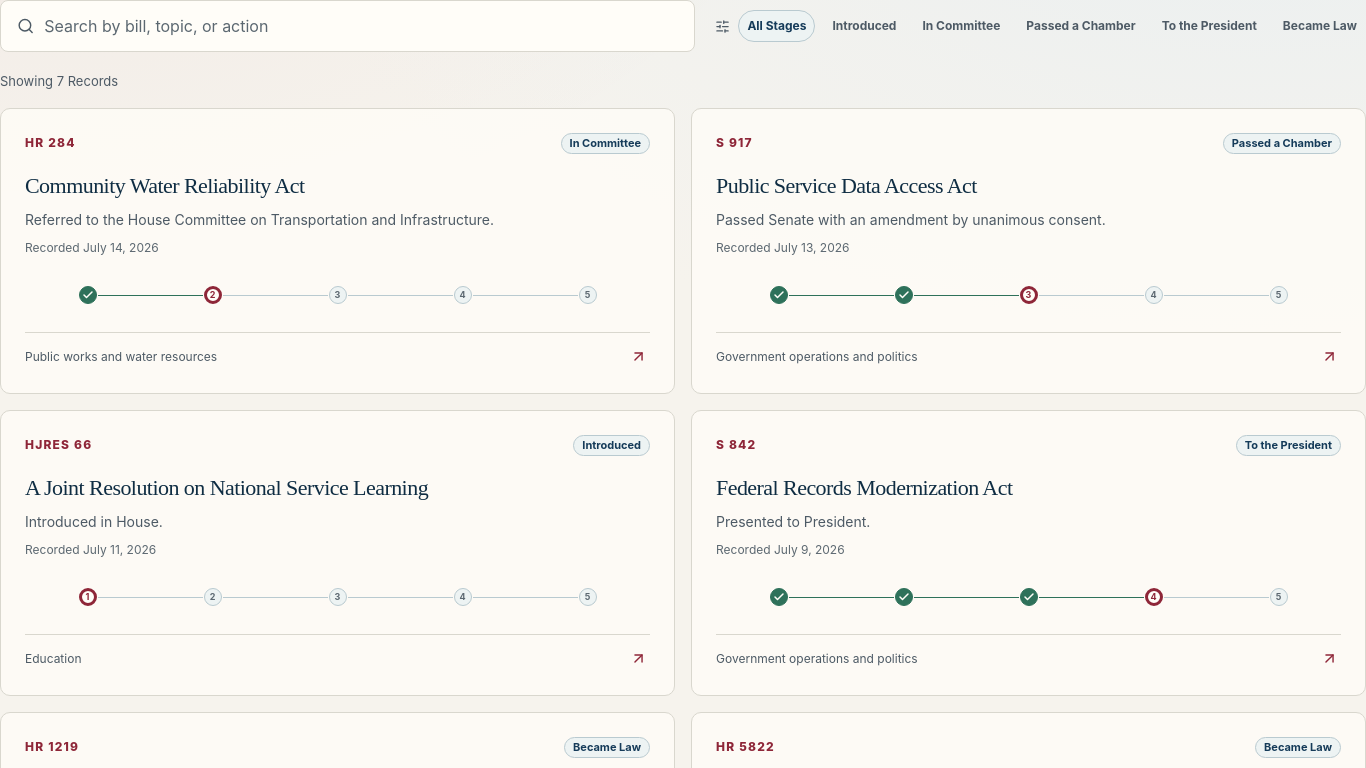
Test: BillDirectory › shows the empty state when nothing matches
In the search field named "Search bill records": [360, 26] box [42,13,678,39], type "no such bill anywhere"
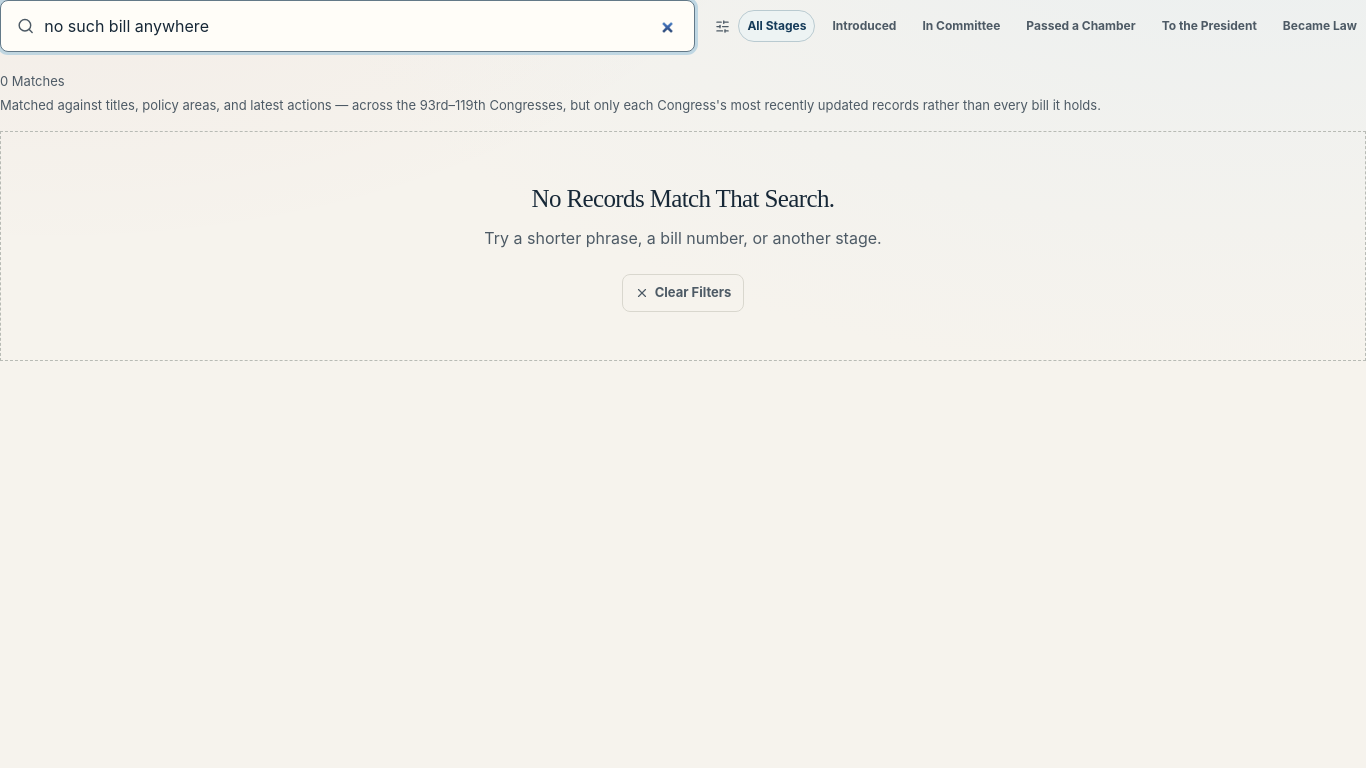
Check: the heading "No Records Match That Search." is shown, box [532,185,834,212]
Check: the text "0 Matches" is shown, box [0,73,65,89]
